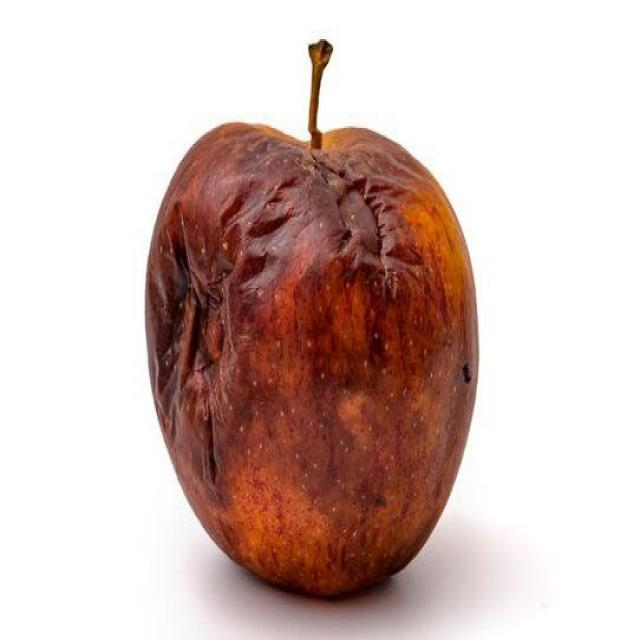Rotten: (156, 121, 466, 640)
